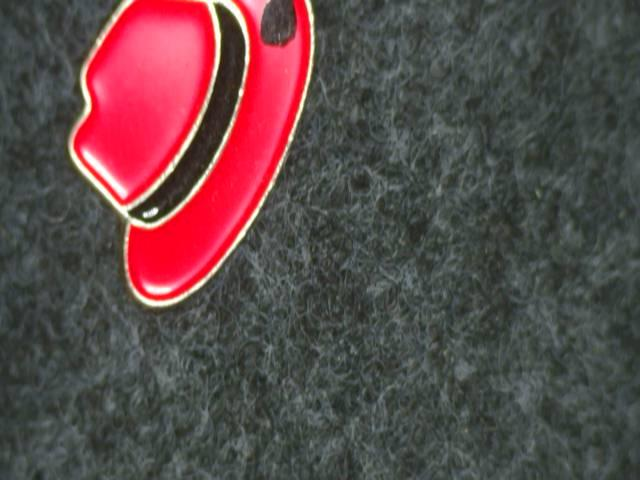Red-Hat: (44, 0, 333, 328)
Scratch: (250, 0, 313, 61)
